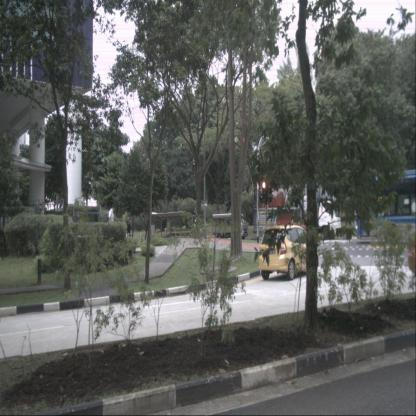human-pedestrian-adult: (108, 205, 116, 240), (126, 218, 132, 240)
vehicle-bus-rigid: (358, 168, 416, 246)
vehicle-car: (258, 225, 319, 280)
vehicle-truck: (253, 183, 341, 240), (212, 212, 248, 240)
